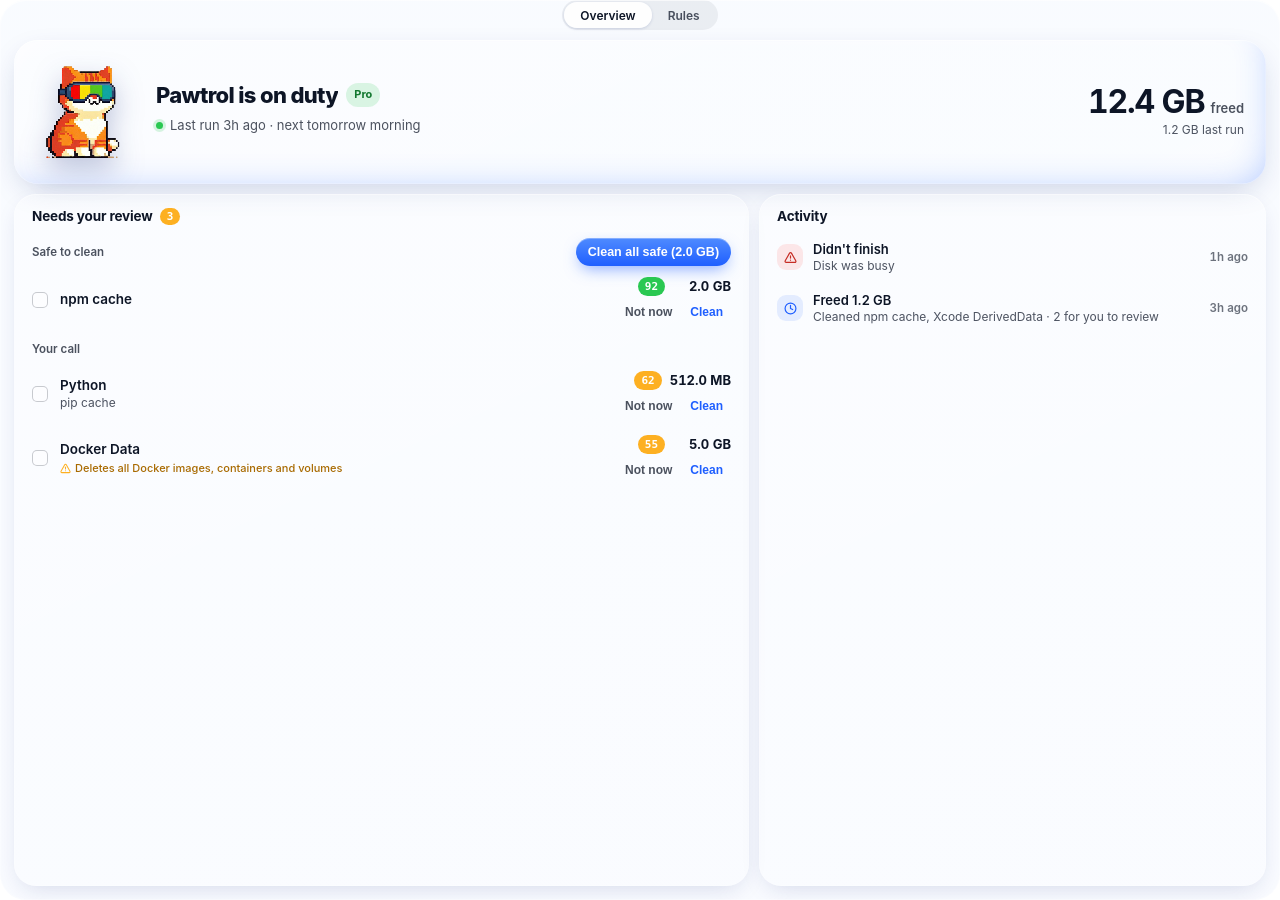
Pawtrol dashboard › a selection that includes user data also asks first
Click the checkbox named "Select Python" at (40, 394), box 32,386 -> 48,402
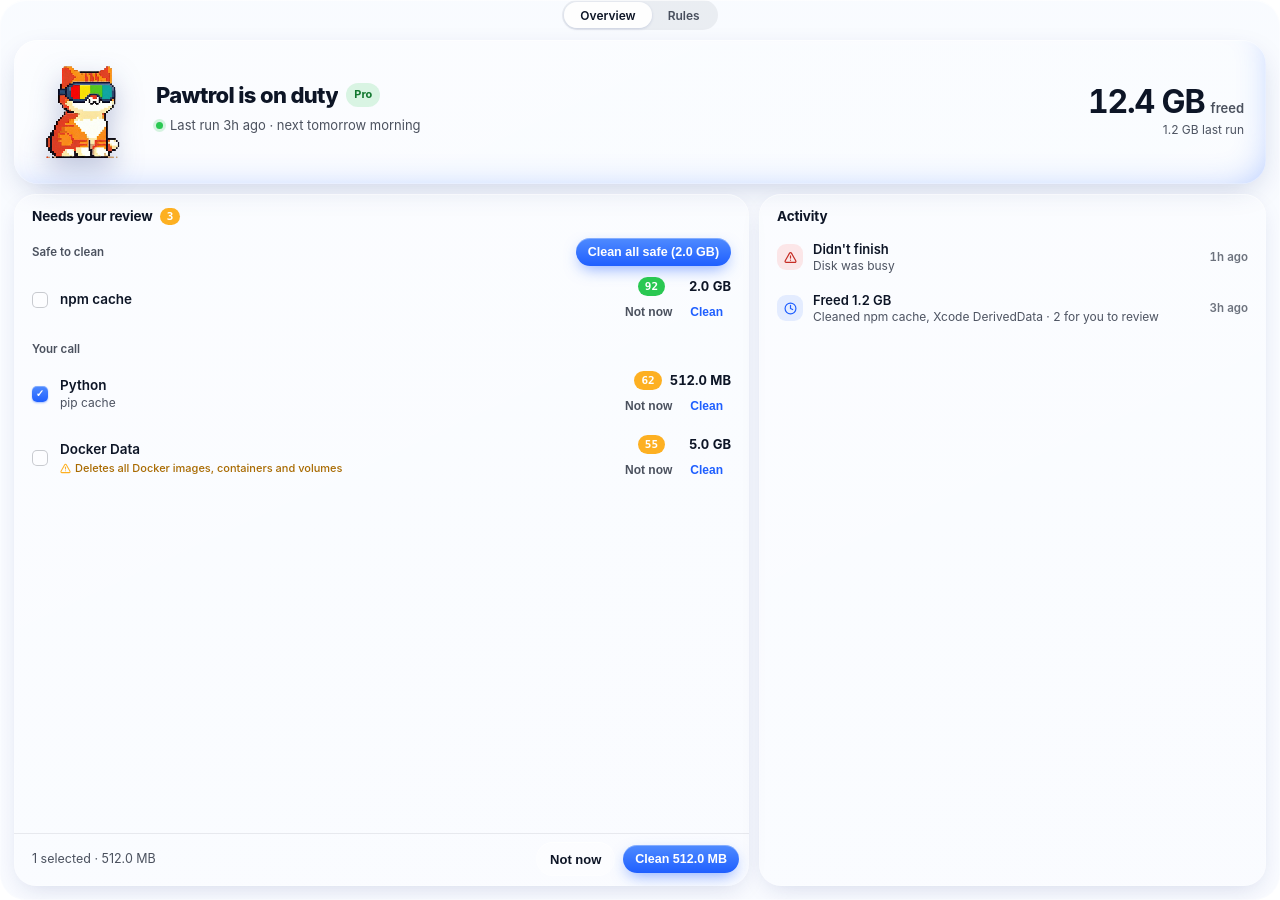
Click the checkbox named "Select Docker Data" at (40, 458), box 32,450 -> 48,466
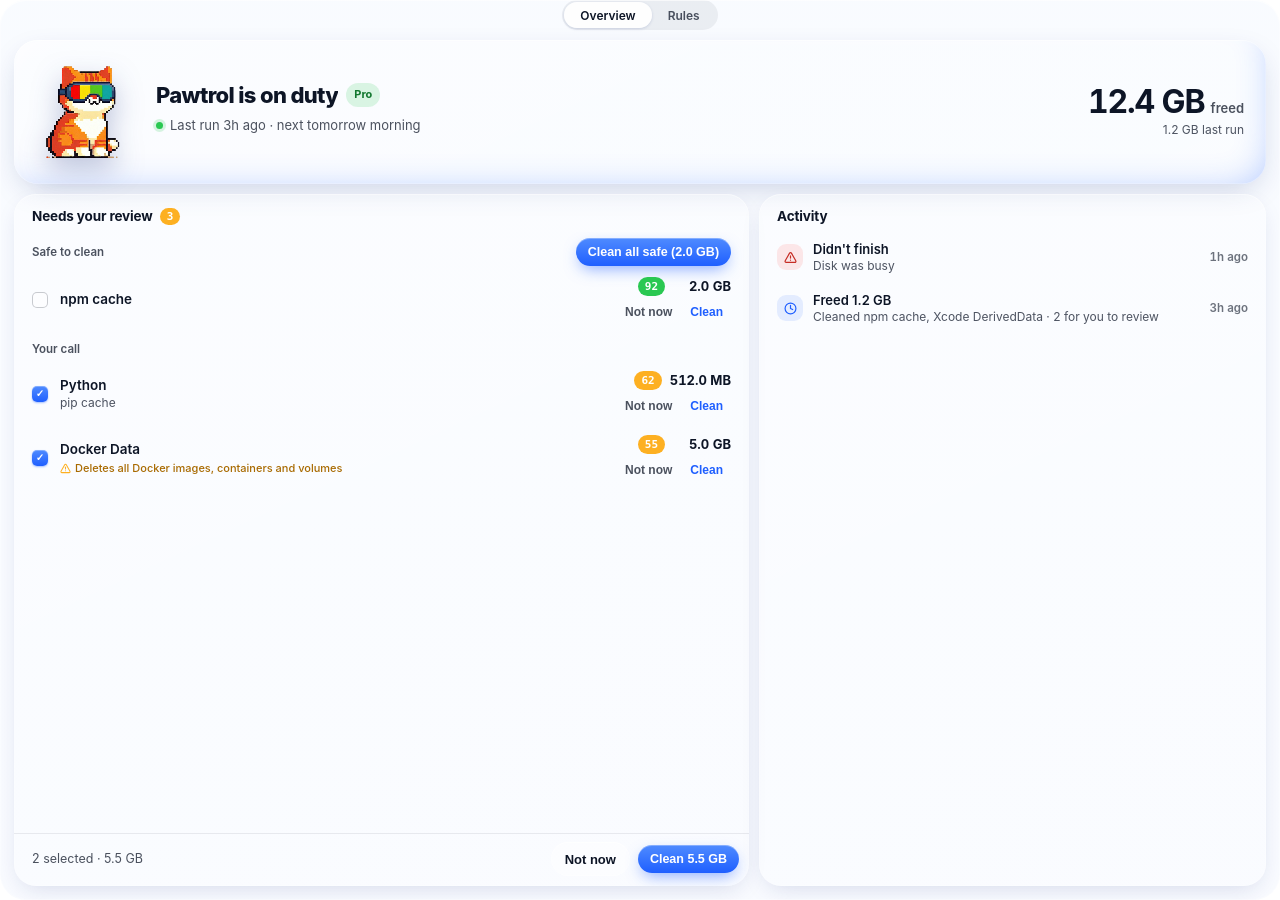
Click the button "Clean 5.5 GB" at (688, 859), box 638,845 -> 739,873
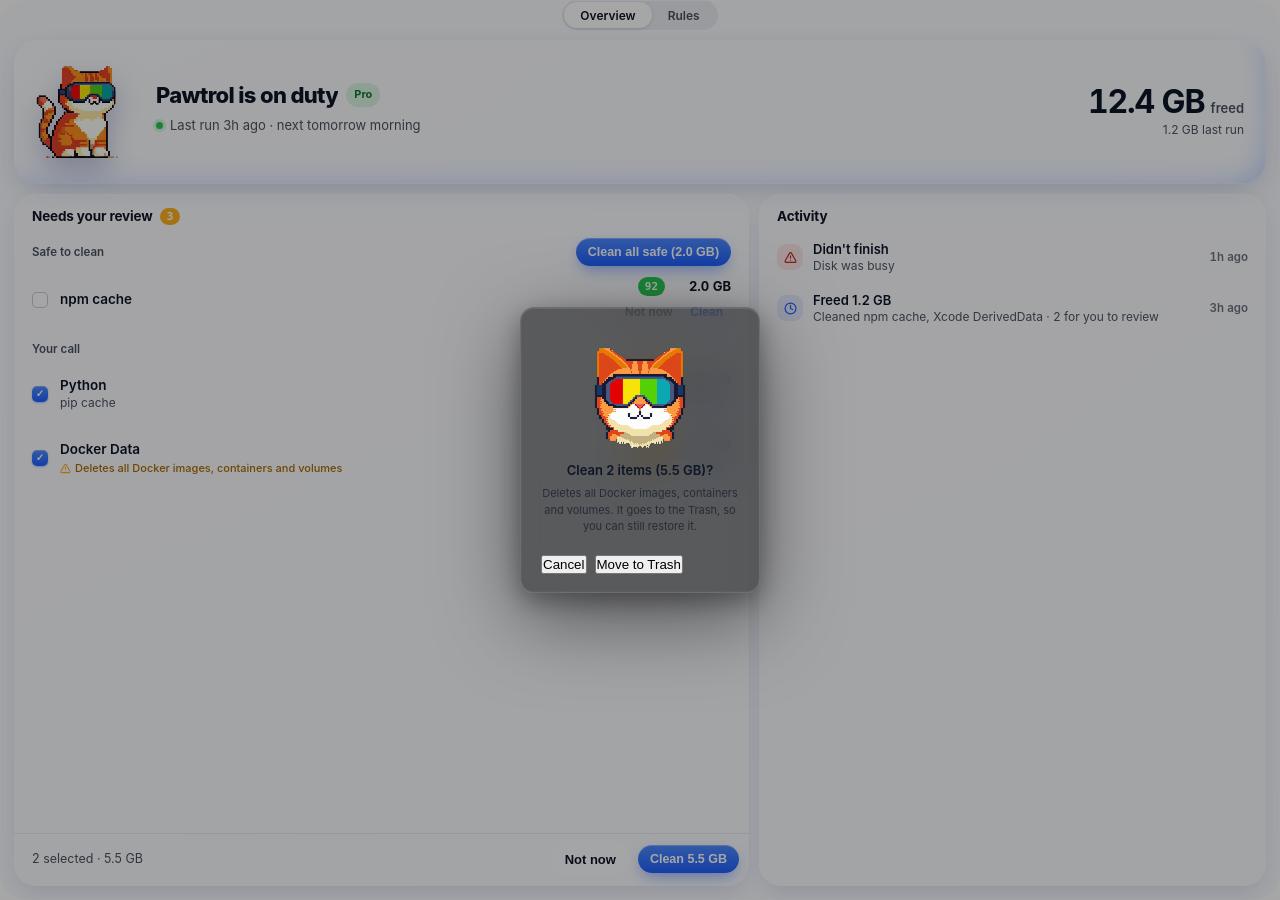
Check: the dialog "Clean 2 items (5.5 GB)?" is shown, box 520,307 -> 760,593
